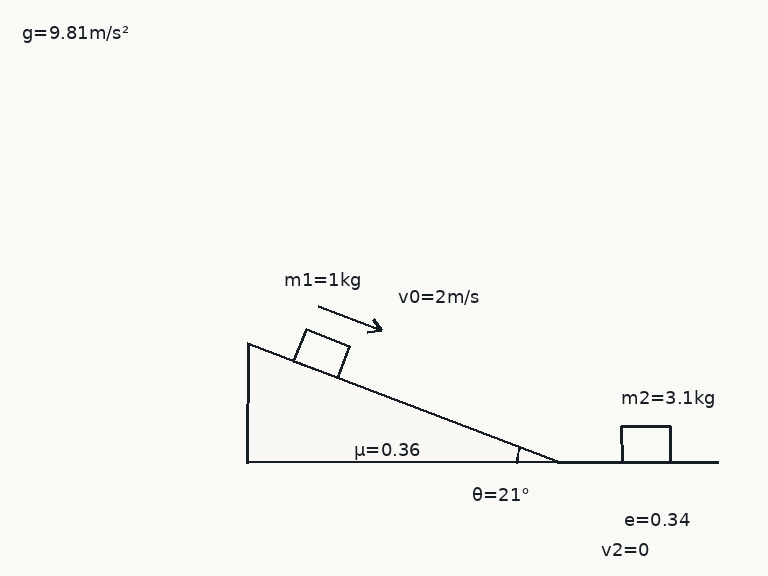block: (291, 327, 351, 379), (620, 424, 672, 464)
ramp: (246, 341, 559, 464)
